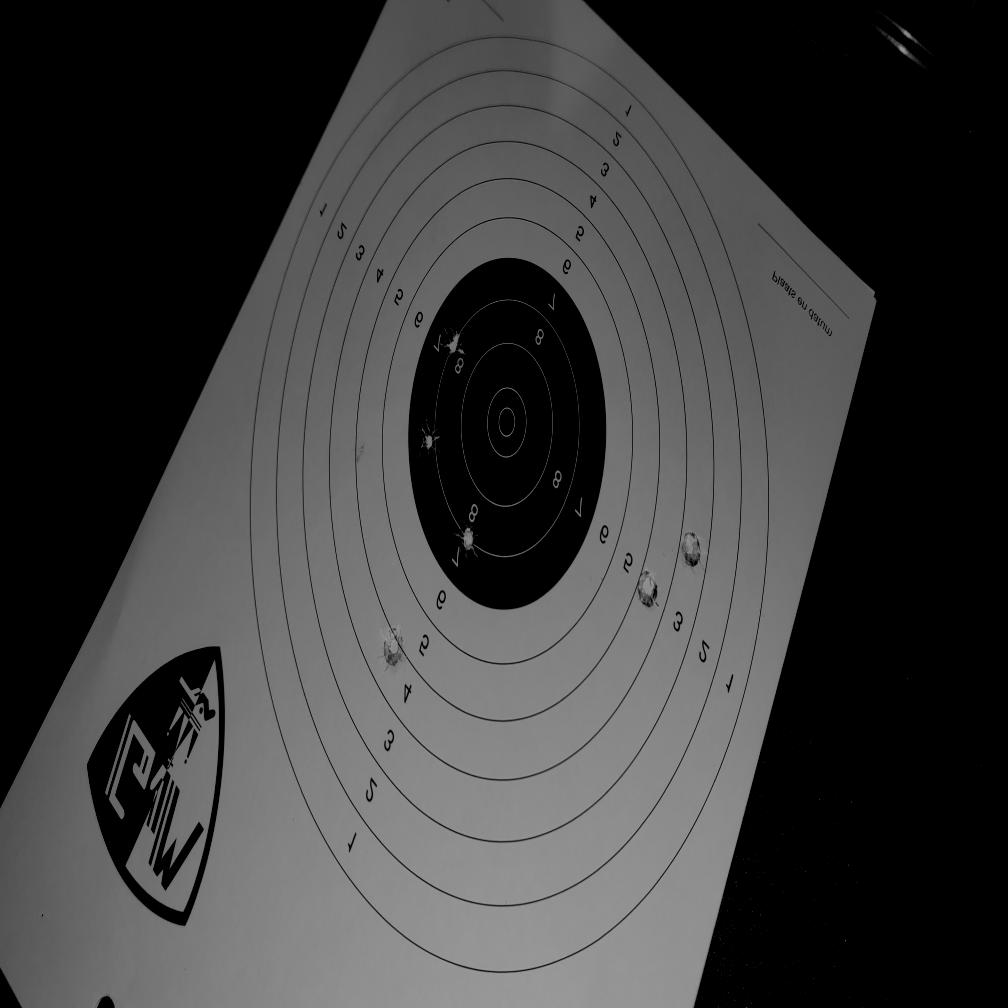3: (682, 529, 702, 576)
4: (637, 566, 659, 614)
5: (381, 621, 405, 668)
8: (455, 518, 479, 560), (416, 420, 438, 464), (446, 326, 464, 362)
Target: (248, 35, 770, 976)
black_contour: (409, 260, 606, 612)
